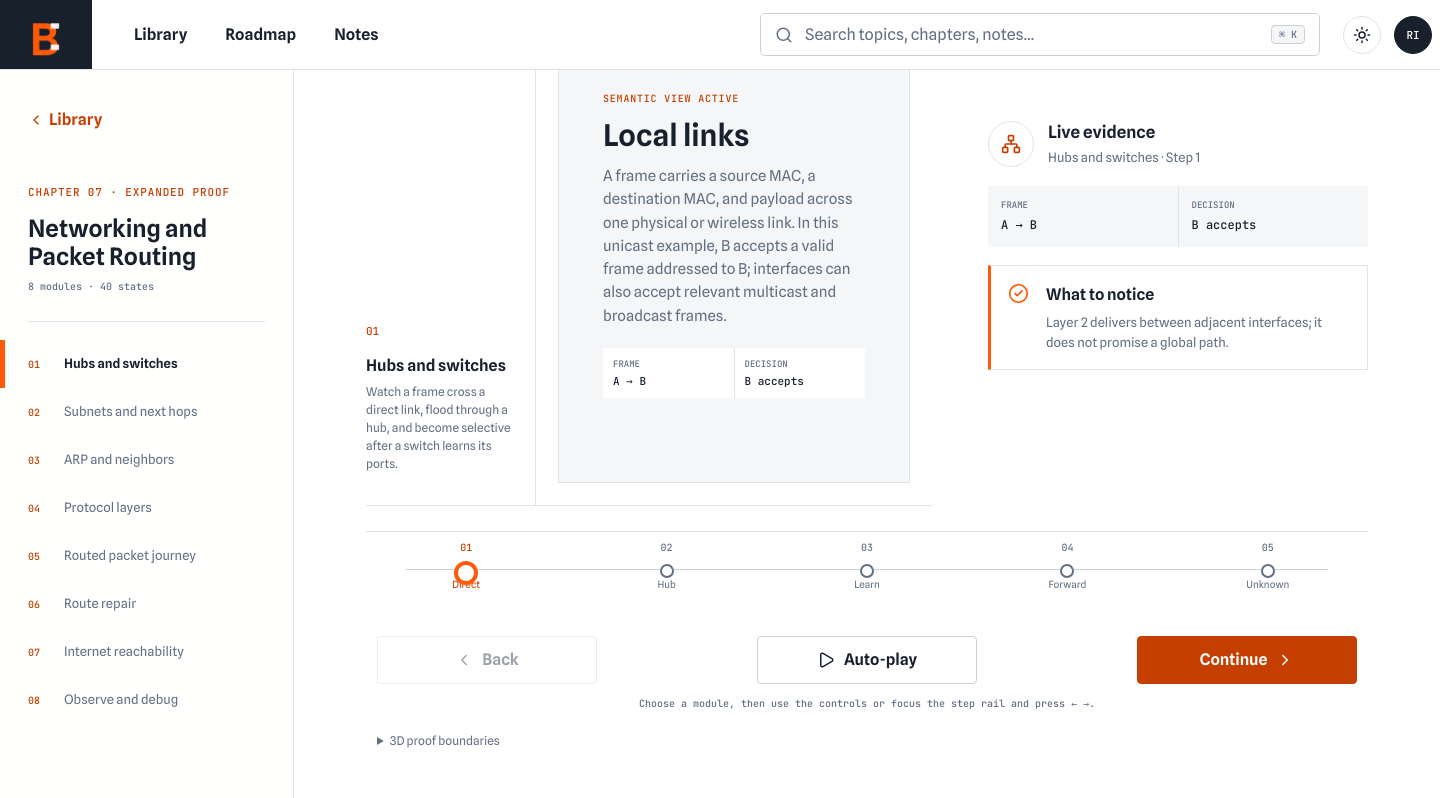
it: networking observatory proof › moves through the deterministic journey with the primary controls
The image size is (1440, 798).
(page scrolled)
Click the button "Continue" at coordinates (1247, 660), box [1137,636,1357,684]
(page scrolled)
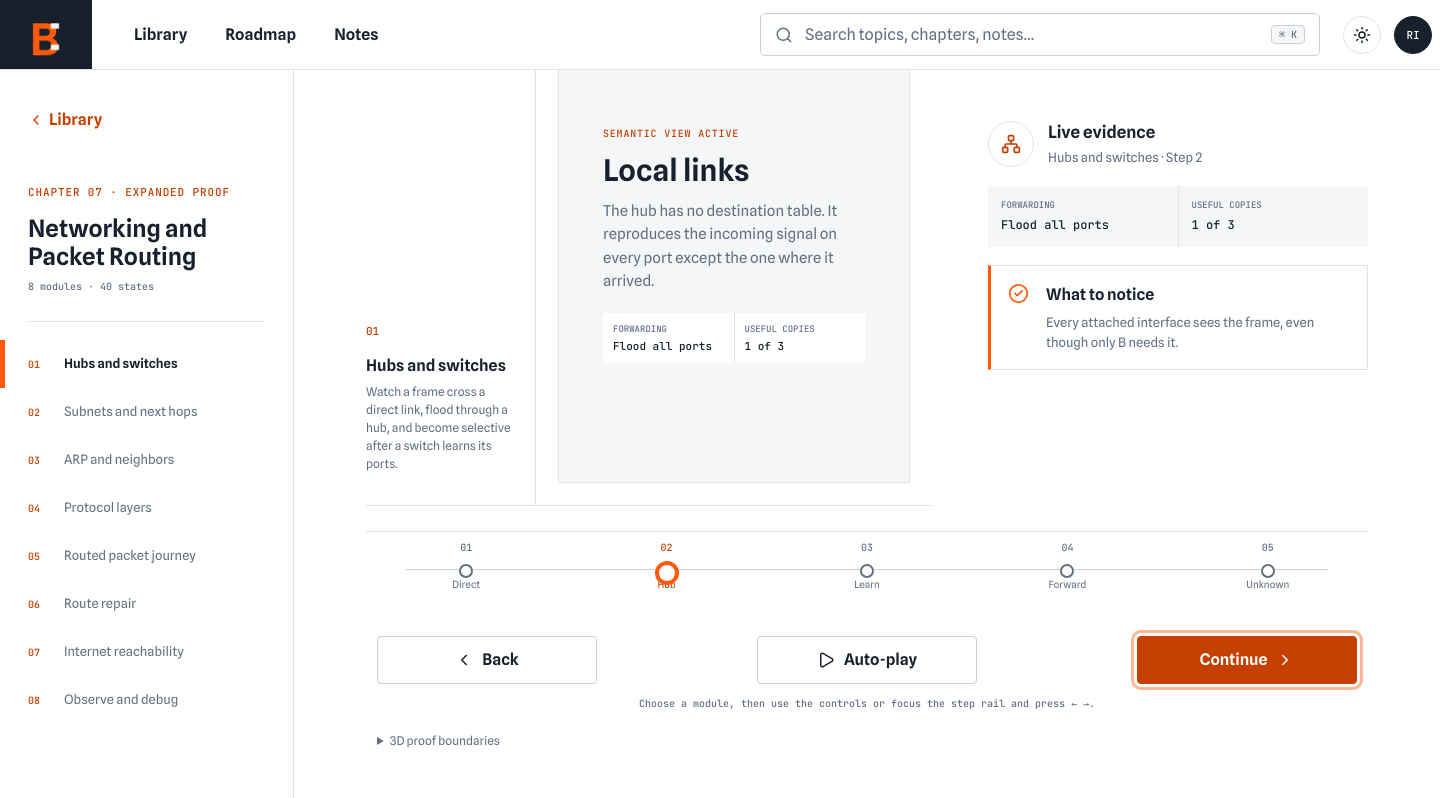
Click the button "Back" at coordinates (487, 660), box [377,636,597,684]
(page scrolled)
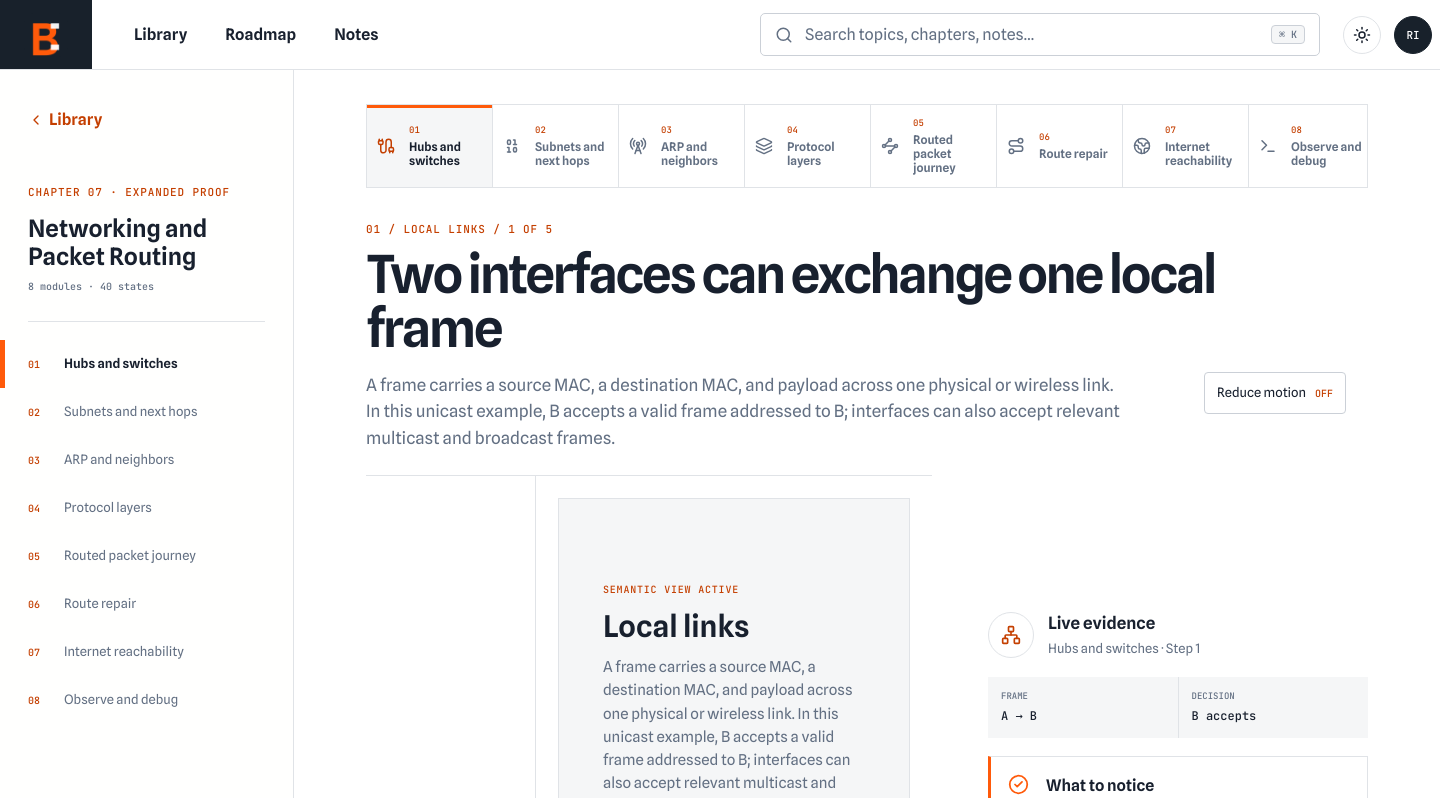
Expected: the heading "Two interfaces can exchange one local frame" is shown, [366,247,1346,356]
